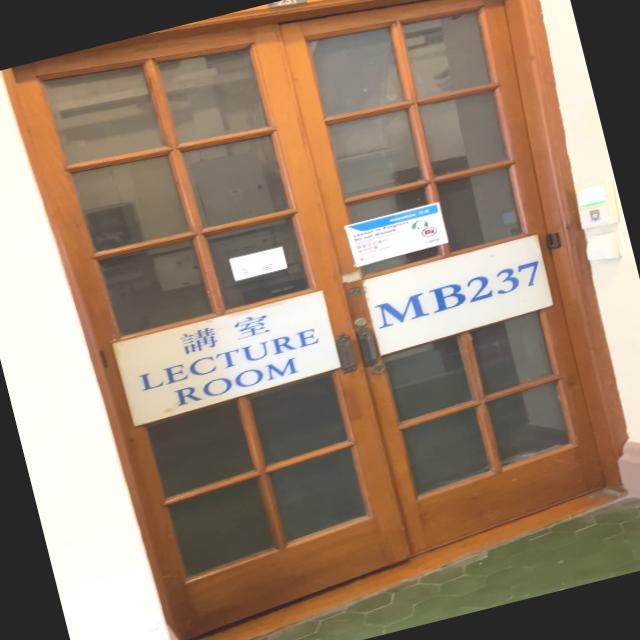room237Window: (360, 232, 554, 351)
